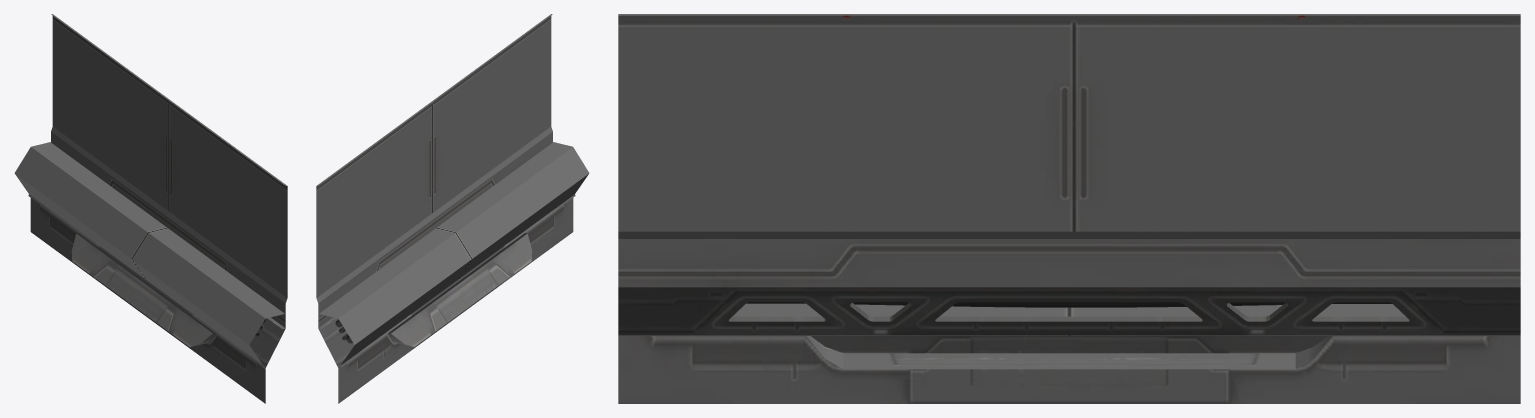
The model's file is trim.gltf.
The picture shows the model from 3 angles, left to right: view 1: azimuth 30°, elevation 25°; view 2: azimuth 150°, elevation 25°; view 3: azimuth 270°, elevation 25°; orthographic projection. The views are drawn at different scales.
Parts seen in each view (by area): view 1: TopCables_Straight; view 2: TopCables_Straight; view 3: TopCables_Straight.
Part boxes in pixels (x1,y1,x2,y2): TopCables_Straight: (14,14,287,403); TopCables_Straight: (316,14,589,403); TopCables_Straight: (618,14,1520,403).
Bounding box in the file's own units: 0.3839 × 2 × 4.
4 materials, 4 textured.
